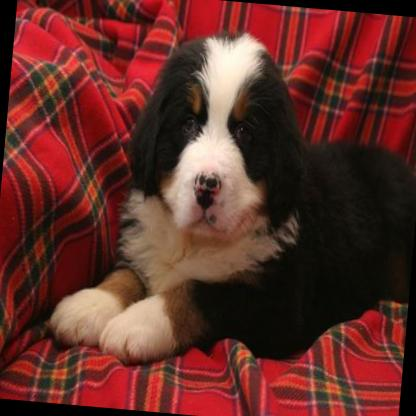Bernese_mountain_dog: (44, 14, 416, 380)
